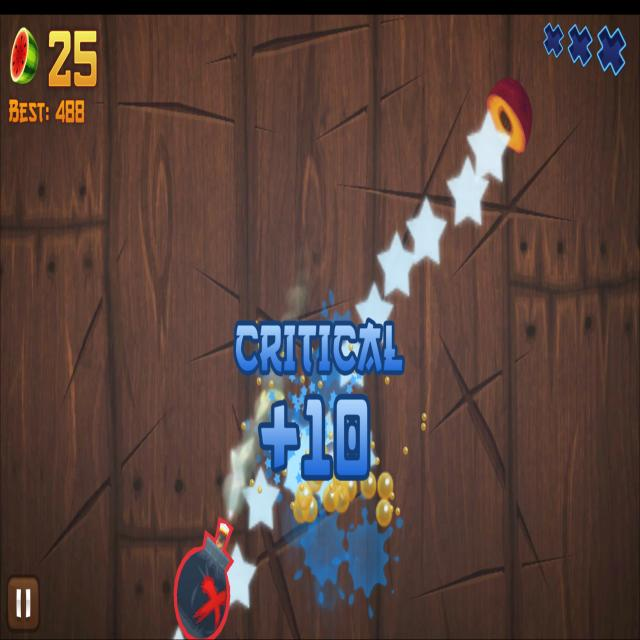bomb: (173, 515, 235, 639)
